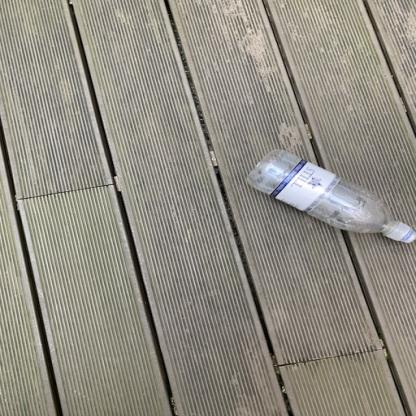trash: (244, 148, 416, 242)
